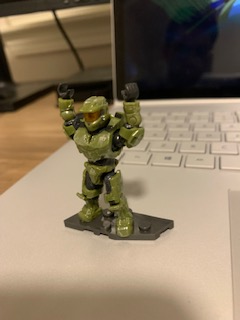chief: (55, 80, 145, 237)
spartan: (53, 78, 143, 235)
up: (56, 82, 147, 166)
